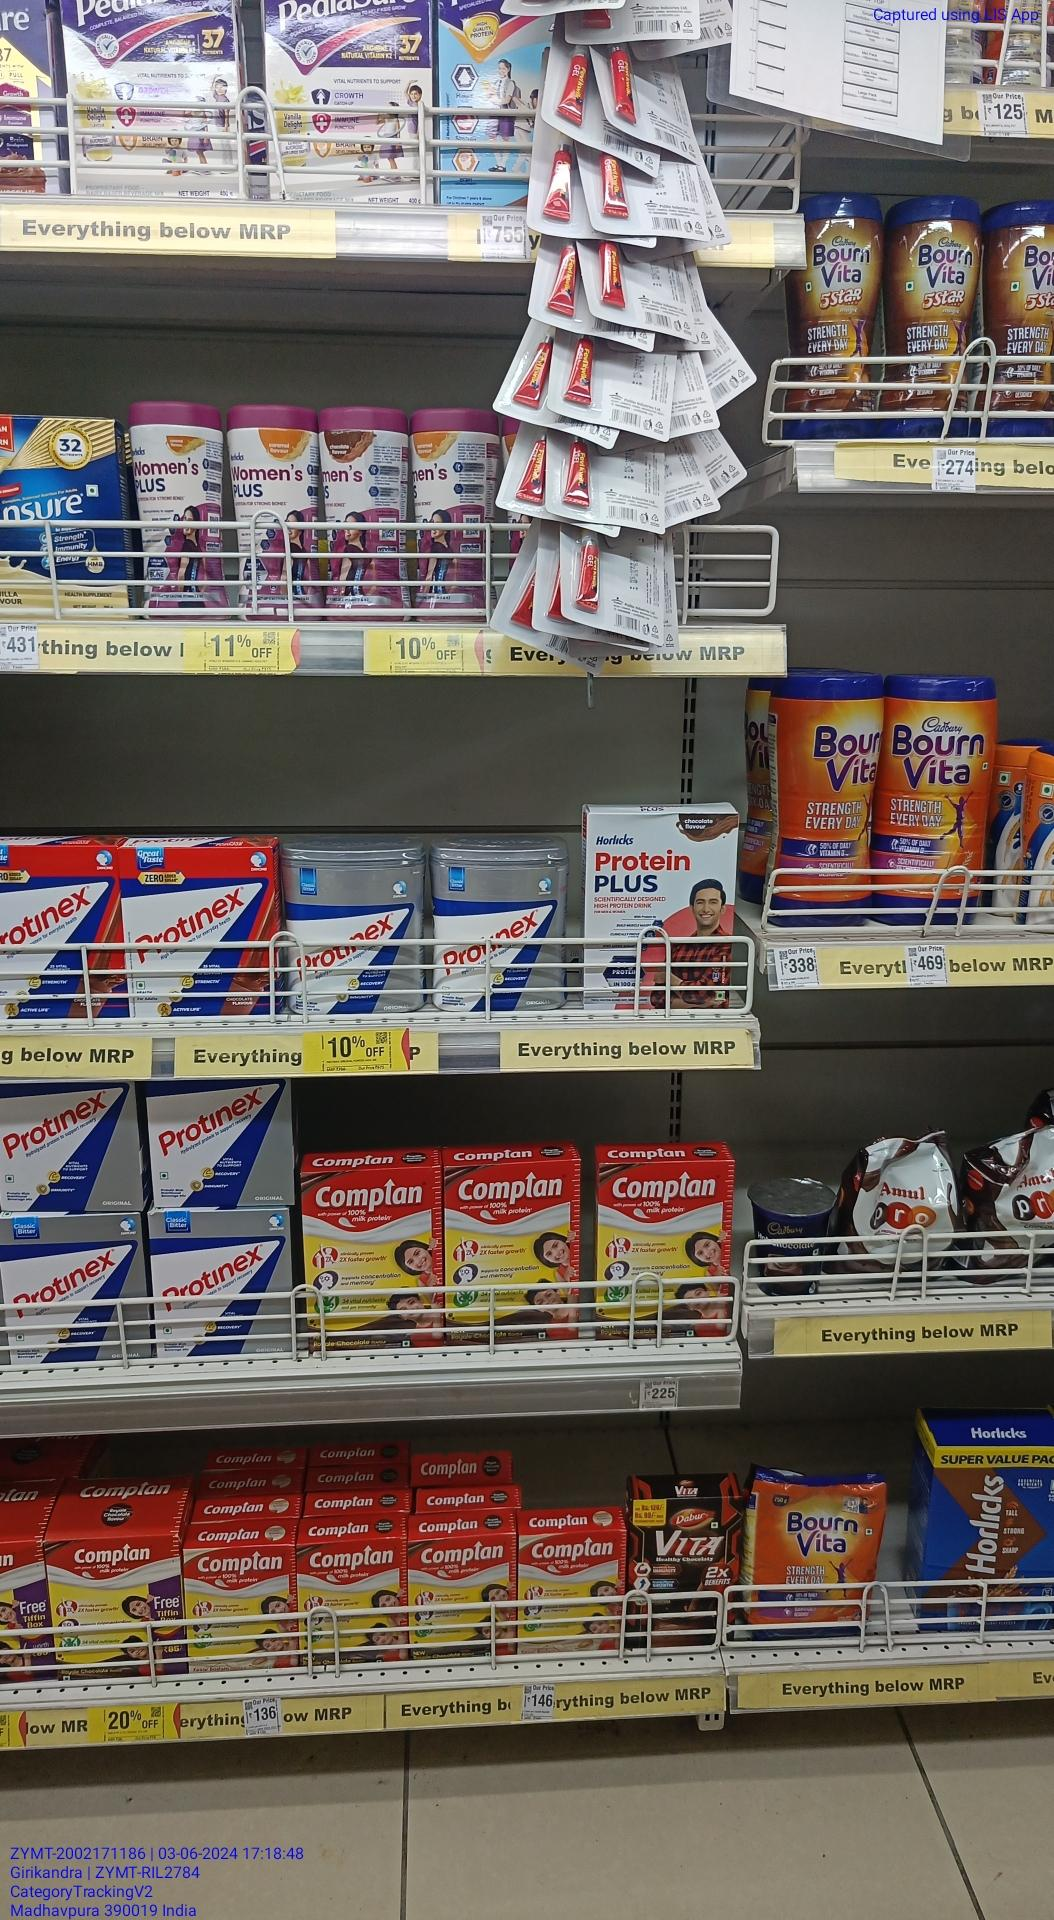BOURN_VITA_1_KG_JAR: (768, 678, 881, 933), (885, 677, 996, 926)
BOURN_VITA_750_G_POUCH: (749, 1474, 879, 1638)
BOURN_VITA_FIVE_STAR_MAGIC_500_G_JAR: (888, 195, 977, 438), (803, 192, 883, 440), (985, 205, 1054, 444)
COMPLAN_CHOCOLATE_200_GMS_PACK: (51, 1541, 182, 1675), (409, 1537, 517, 1655), (301, 1548, 408, 1662)
COMPLAN_CHOCOLATE_500_GMS_PACK: (445, 1162, 585, 1347), (301, 1173, 441, 1347), (598, 1160, 729, 1340)
COMPLAN_KESAR_BADAM_200_GMS_PACK: (183, 1552, 297, 1674), (522, 1537, 624, 1655)
ENSURE_VANILLA_400_G_PACK: (0, 416, 127, 618)
HORLICK_CHOCOLATE_1_KG_PACK: (932, 1446, 1054, 1633)
PROTINEX_ORIGINAL_400_G_JAR: (434, 852, 569, 1016), (292, 855, 427, 1017)
